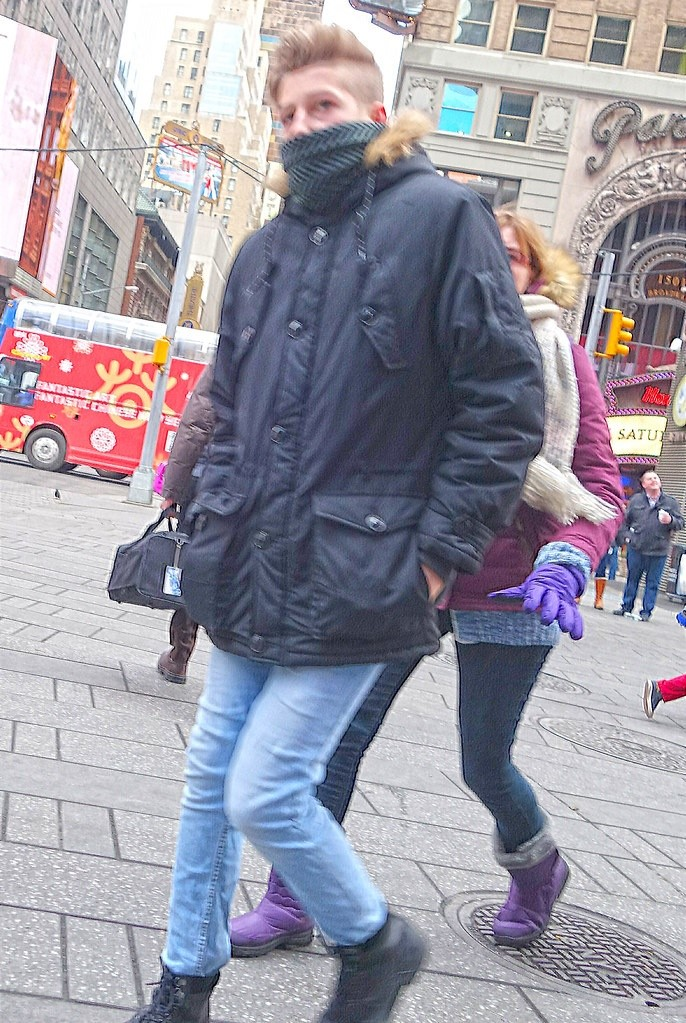face_with_mask: (262, 35, 392, 189)
